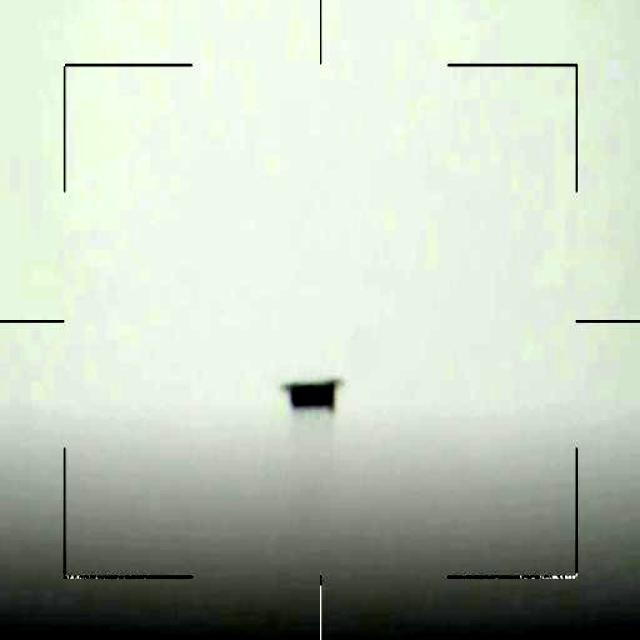bird: (280, 376, 334, 412)
